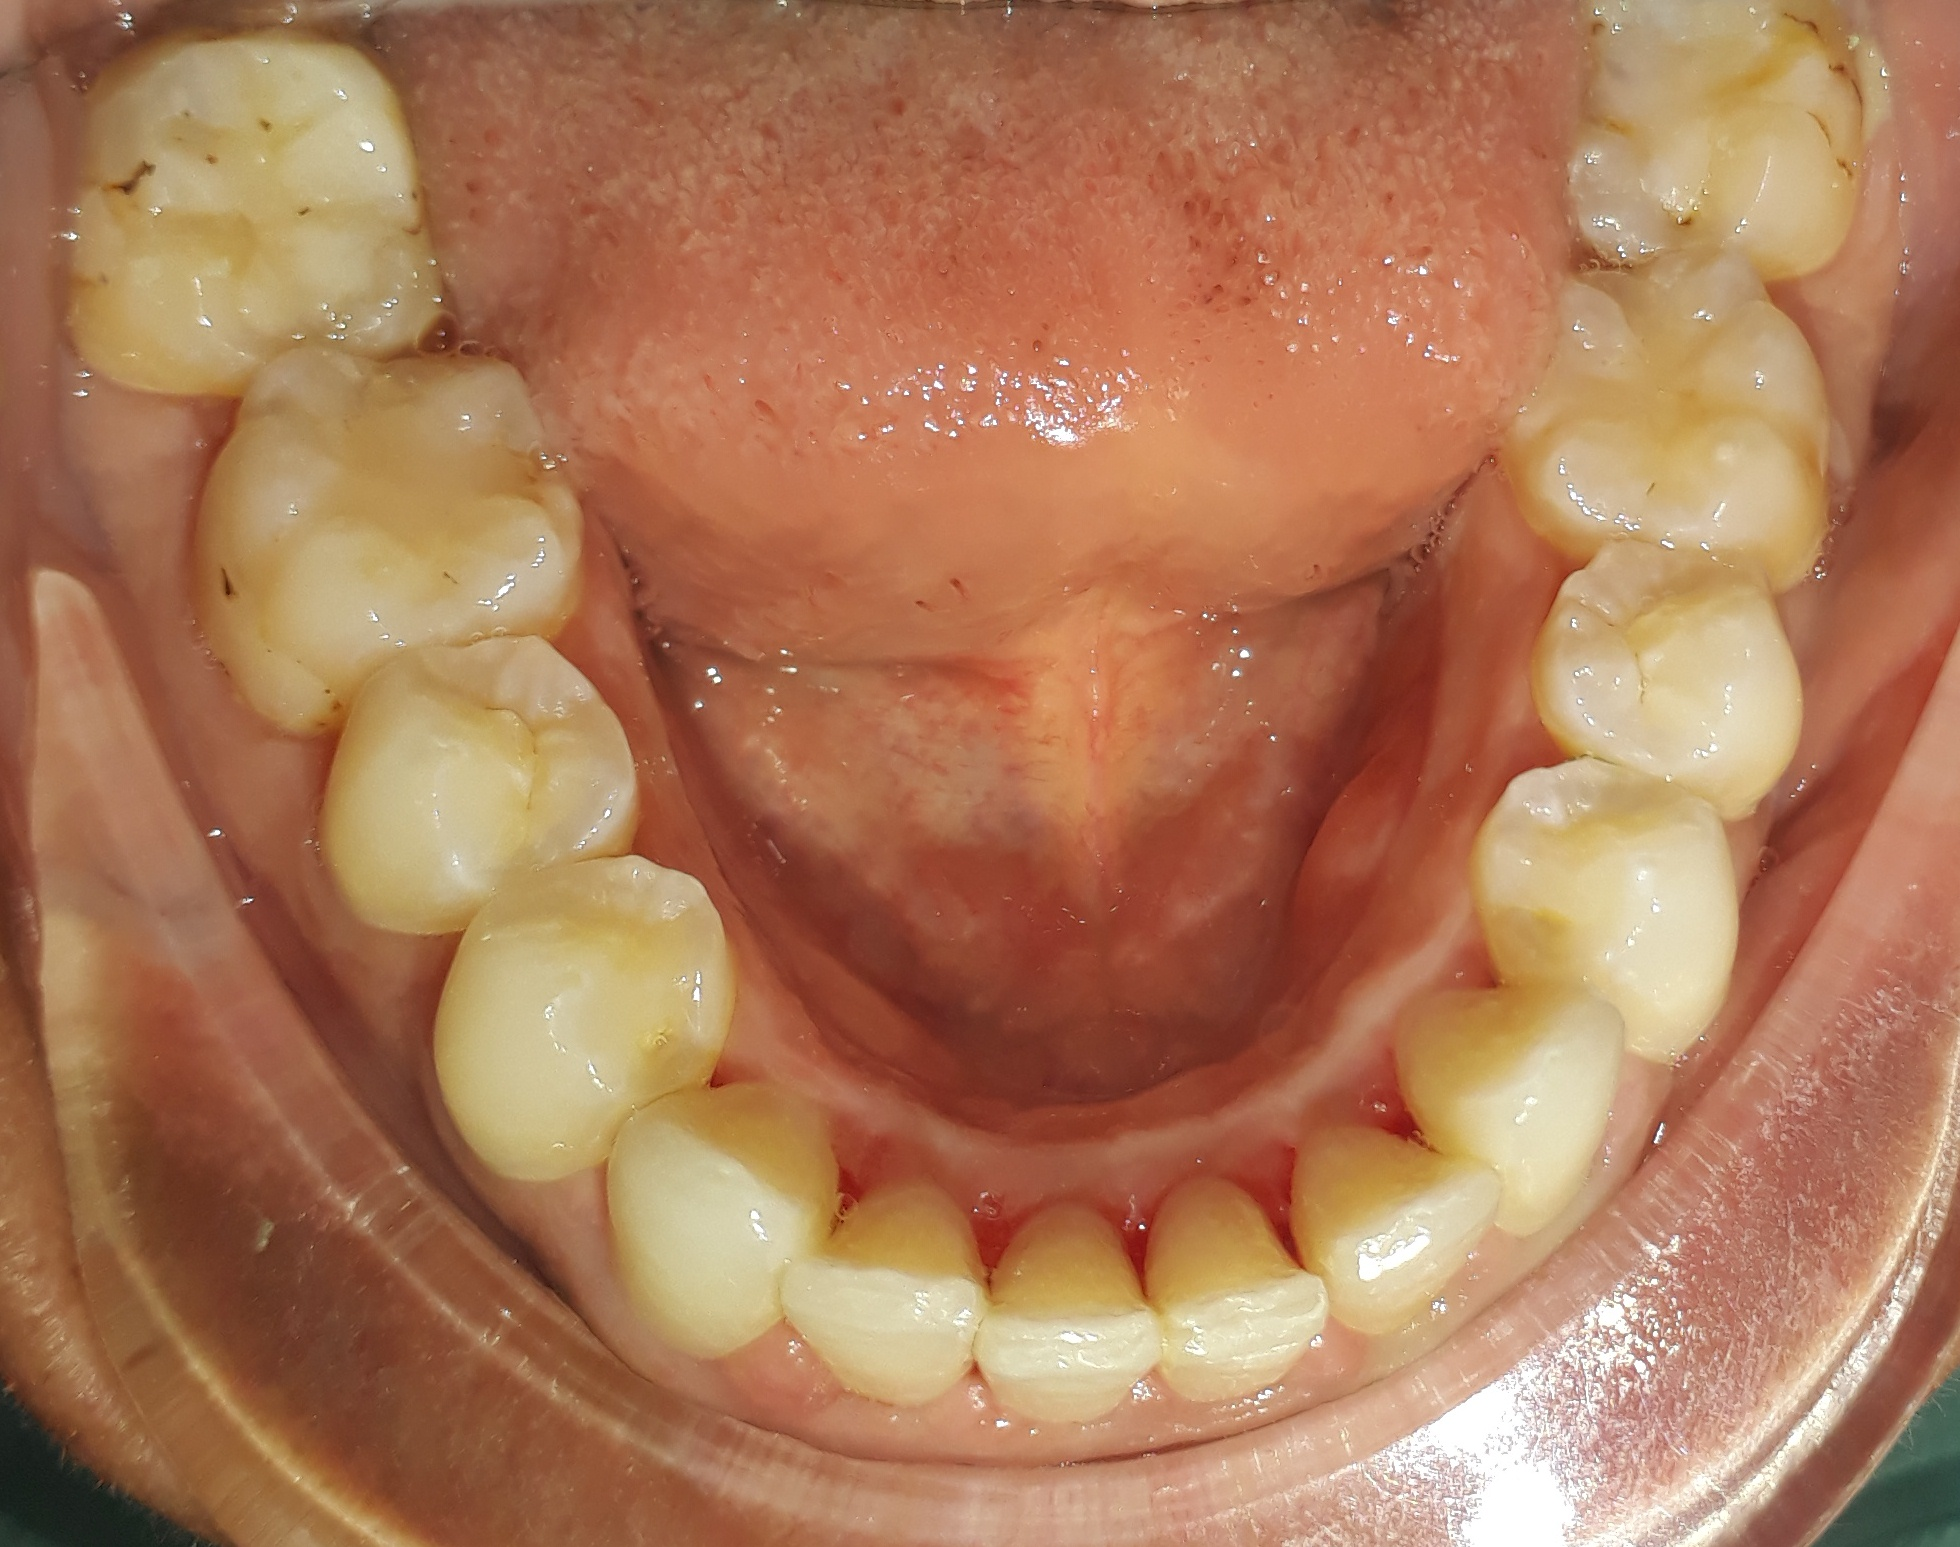1st Molar: (185, 357, 587, 697), (1522, 259, 1841, 578)
1st Premolar: (430, 844, 732, 1175), (1475, 754, 1734, 1058)
2nd Molar: (64, 21, 437, 379), (1581, 0, 1868, 263)
2nd Premolar: (317, 632, 644, 925), (1530, 540, 1801, 801)
Canine: (608, 1062, 840, 1354), (1394, 976, 1620, 1233)
Central Incisor: (1153, 1167, 1320, 1397), (982, 1198, 1150, 1412)
Lateral Incisor: (791, 1171, 980, 1415), (1289, 1117, 1499, 1327)
